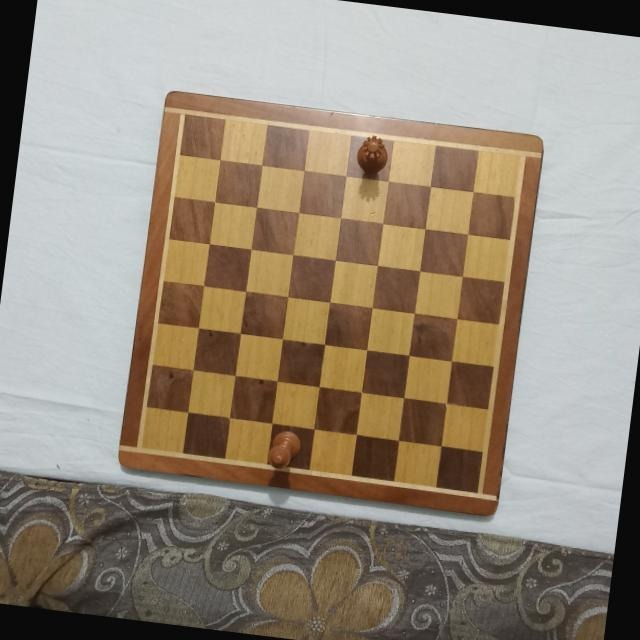white-king: (264, 425, 304, 473)
white-queen: (354, 130, 390, 174)
